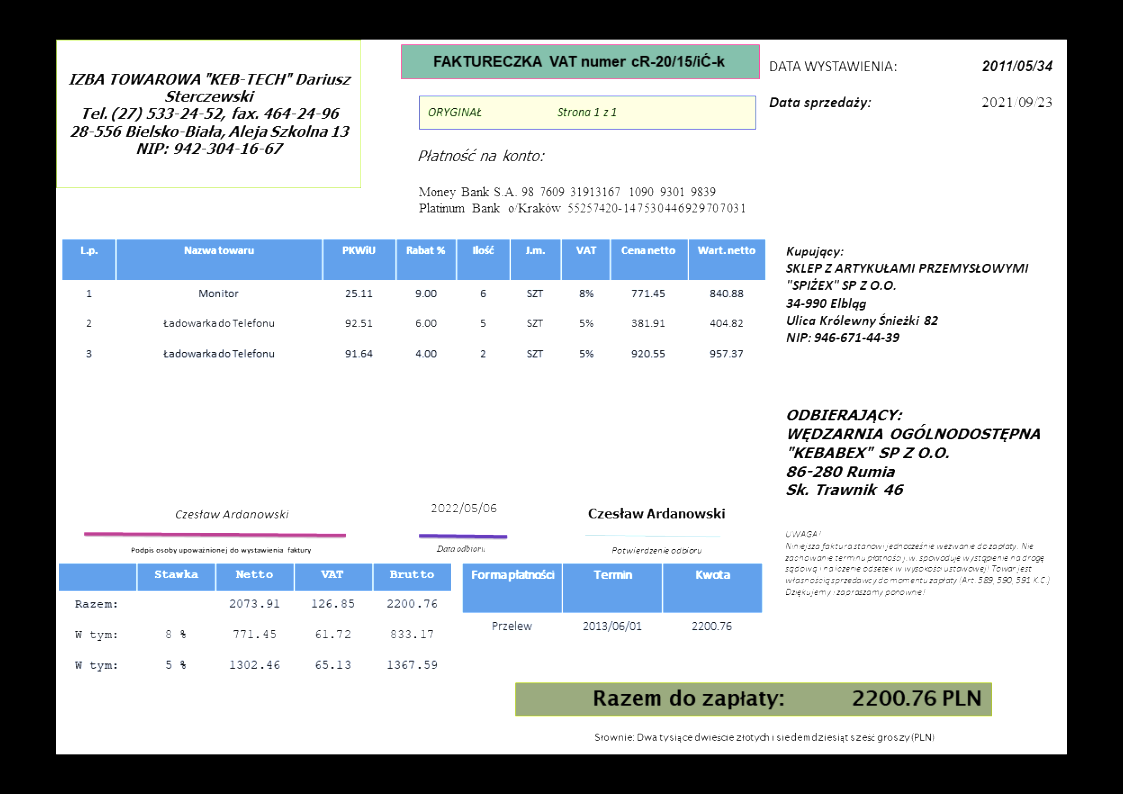Table: (60, 236, 768, 374), (57, 561, 453, 685), (460, 560, 764, 651)
TextBox: (782, 241, 1034, 347), (65, 68, 353, 159), (783, 406, 1044, 500), (782, 526, 1052, 600), (414, 182, 749, 216), (590, 686, 984, 712), (591, 729, 937, 746), (431, 51, 728, 70), (424, 102, 619, 121), (414, 145, 548, 166), (584, 503, 728, 522), (766, 56, 899, 75), (126, 543, 314, 556), (173, 504, 292, 522), (767, 93, 873, 113), (980, 56, 1056, 75), (979, 93, 1054, 111), (608, 544, 704, 557), (429, 500, 498, 517), (432, 542, 488, 554)
